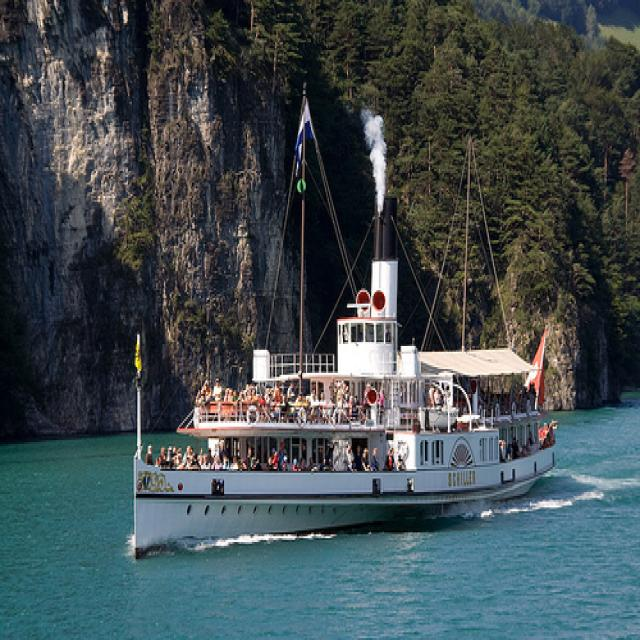boat: (133, 82, 559, 562)
